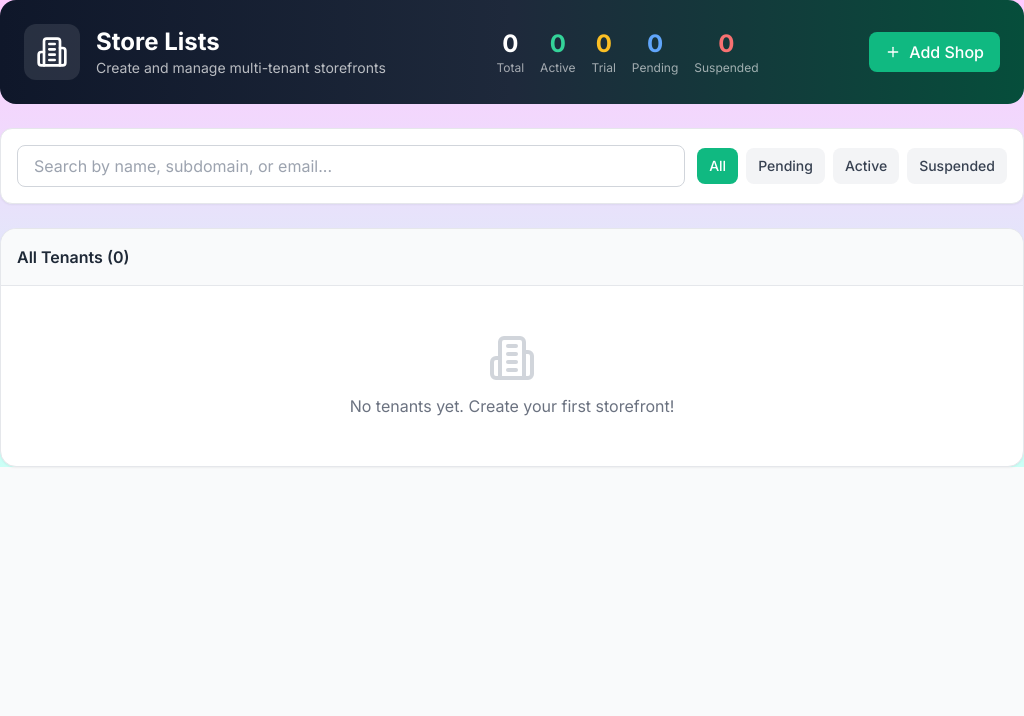
Test: AdminTenantManagement › auto-derives subdomain from store name
The width and height of the screenshot is (1024, 716).
# Click "Add Shop" button first to show the form
Click the button "Add Shop".
click(935, 52)  # box [869, 32, 1000, 72]
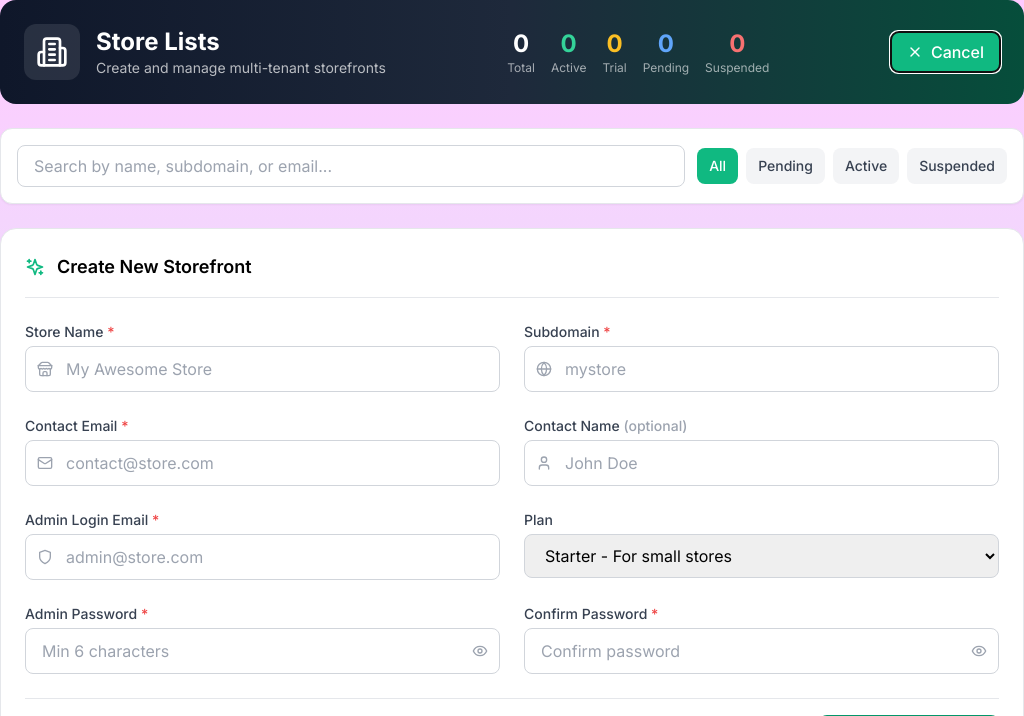
Type "Acme Labs" into the field with placeholder "My Awesome Store".
click(262, 369); type("Acme Labs")  # box [25, 346, 500, 392]
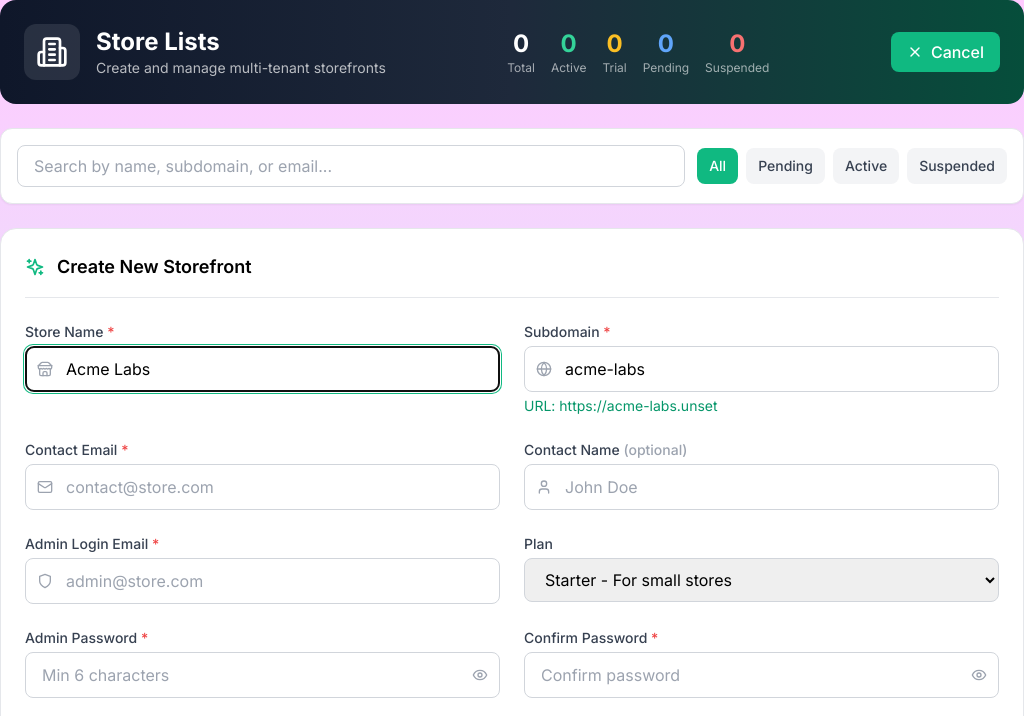
Expected: the field with placeholder "mystore" below "Subdomain" holds "acme-labs", [524, 346, 999, 392]
